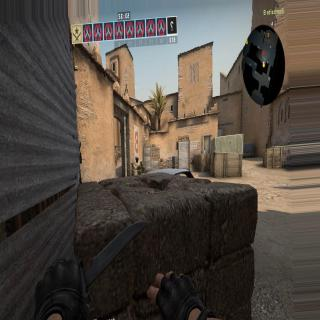CT-Body: (131, 155, 145, 175)
CT-Head: (135, 156, 139, 161)
